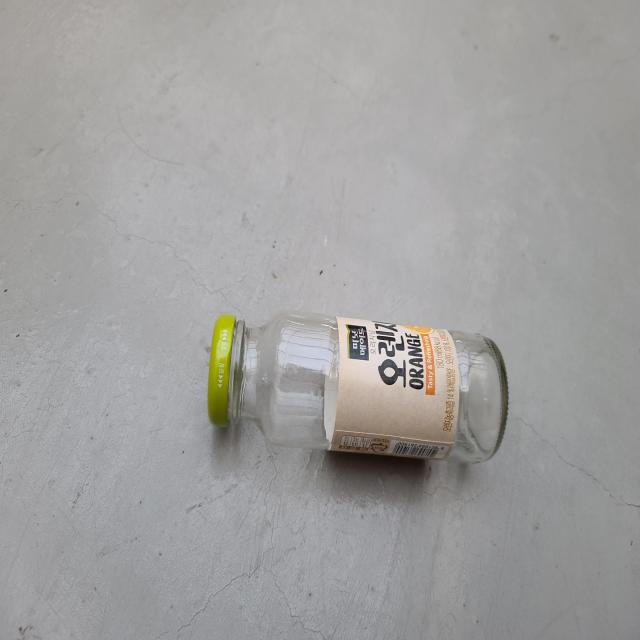glass: (208, 311, 509, 463)
